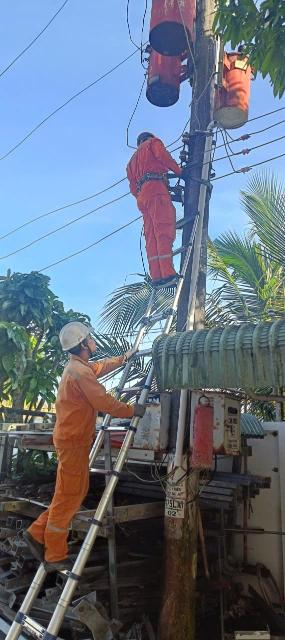gloves: (171, 164, 197, 187), (128, 400, 150, 418), (123, 347, 139, 360)
harness: (129, 170, 175, 189)
helmet: (45, 316, 97, 356), (133, 128, 159, 146)
shoes: (34, 540, 83, 580), (10, 522, 46, 567), (147, 270, 188, 291)
